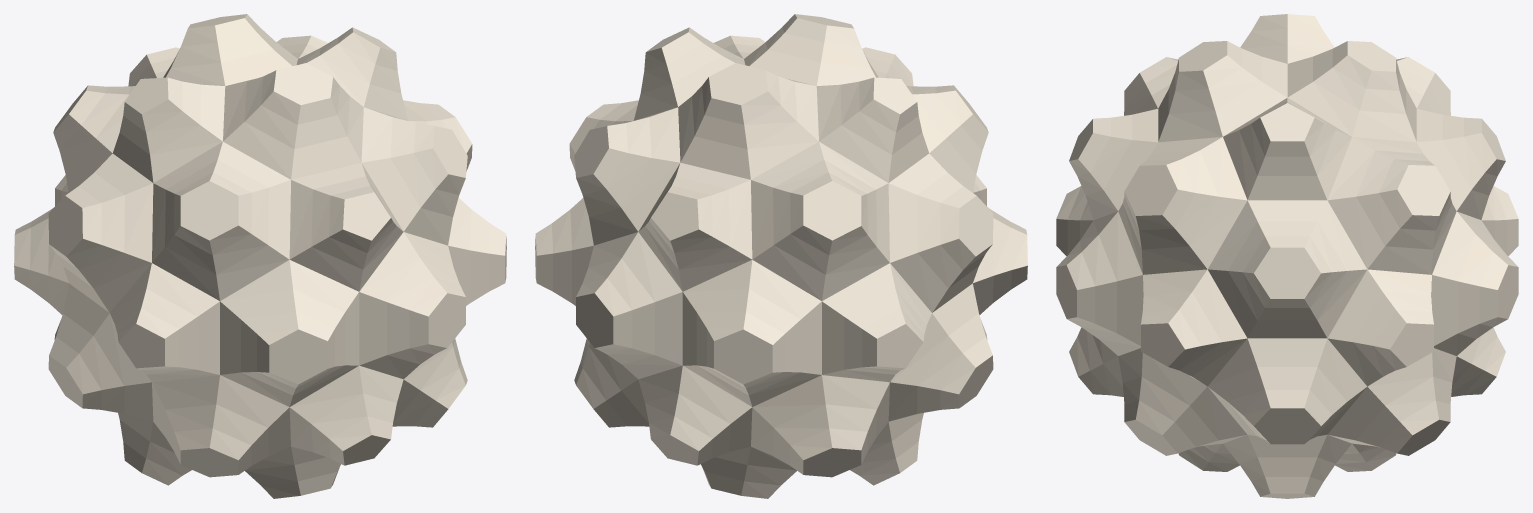
The model's file is greasy plant_2.fbx.
3 views of the same model, side by side, from view 1: azimuth 30°, elevation 25°; view 2: azimuth 150°, elevation 25°; view 3: azimuth 270°, elevation 25° (orthographic).
Visible parts, largest first — view 1: greasy_plant_2; view 2: greasy_plant_2; view 3: greasy_plant_2.
Part boxes in pixels (x1,y1,x2,y2): greasy_plant_2: (14, 14, 506, 498); greasy_plant_2: (535, 14, 1027, 498); greasy_plant_2: (1056, 14, 1518, 498).
Size of the model in its own units: 73.38 by 73.38 by 73.77.
